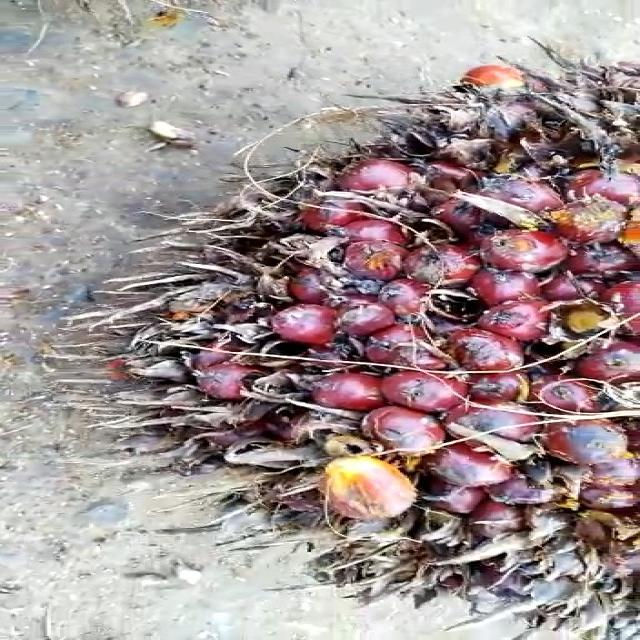palm oil: (128, 42, 639, 640)
